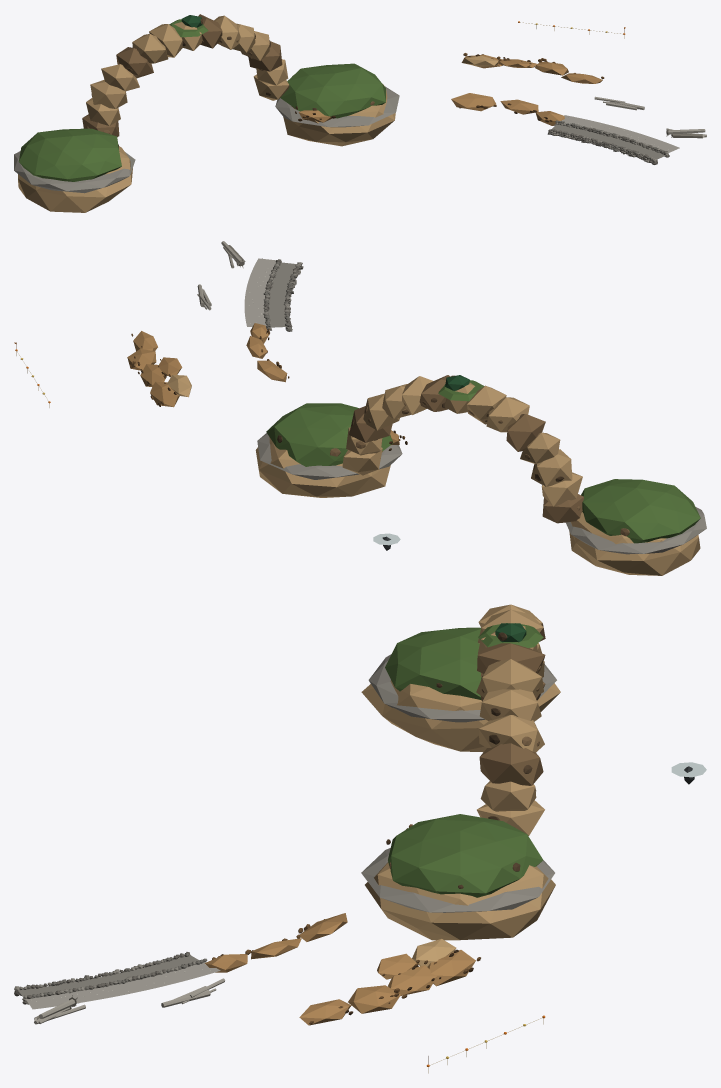
Rendered from chunk_0_4.glb.
The picture shows the model from 3 angles, top to bottom: view 1: azimuth 30°, elevation 25°; view 2: azimuth 150°, elevation 25°; view 3: azimuth 270°, elevation 25°; orthographic projection. The views are drawn at different scales.
Visible parts, largest first — view 1: chunk_0_4; view 2: chunk_0_4; view 3: chunk_0_4.
Part boxes in pixels (x1,y1,x2,y2): chunk_0_4: [14, 14, 706, 212]; chunk_0_4: [14, 241, 706, 575]; chunk_0_4: [14, 604, 706, 1073].
Size of the model in its own units: 125 by 29.04 by 83.88.
